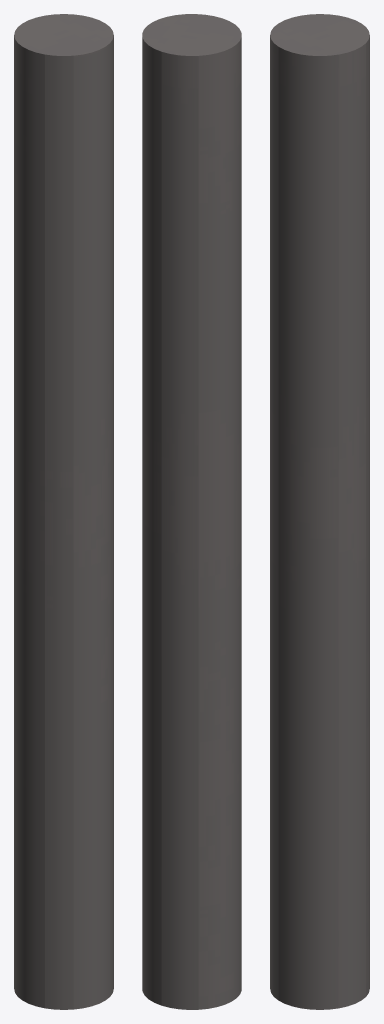
The model's file is center_frame__mid_cross_tube.glb.
The picture shows the model from 3 angles, left to right: view 1: azimuth 90°, elevation 25°; view 2: azimuth 210°, elevation 25°; view 3: azimuth 270°, elevation 25°; orthographic projection.
Visible parts, largest first — view 1: world; view 2: world; view 3: world.
Boxes of the visible parts, x1,y1,x2,y2 form: world: (14,14,113,1009); world: (142,14,241,1009); world: (270,14,369,1009).
Bounding box in the file's own units: 0.036 × 0.38 × 0.036.
Materials: 1 (1 with a texture image).
